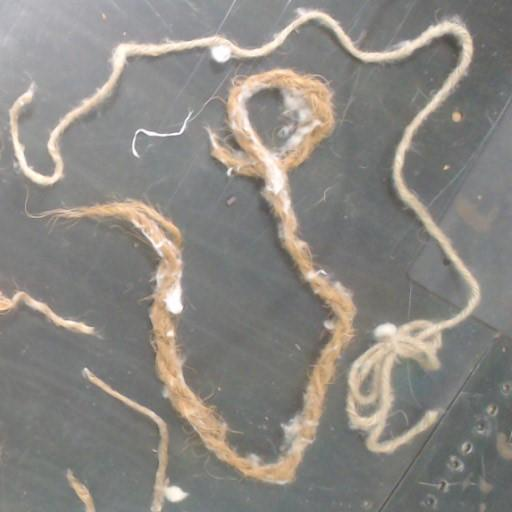jute: (233, 8, 480, 451), (52, 200, 297, 481), (207, 69, 353, 344), (11, 36, 230, 184), (83, 368, 185, 511), (282, 338, 339, 470), (0, 291, 95, 335), (69, 471, 95, 511)
